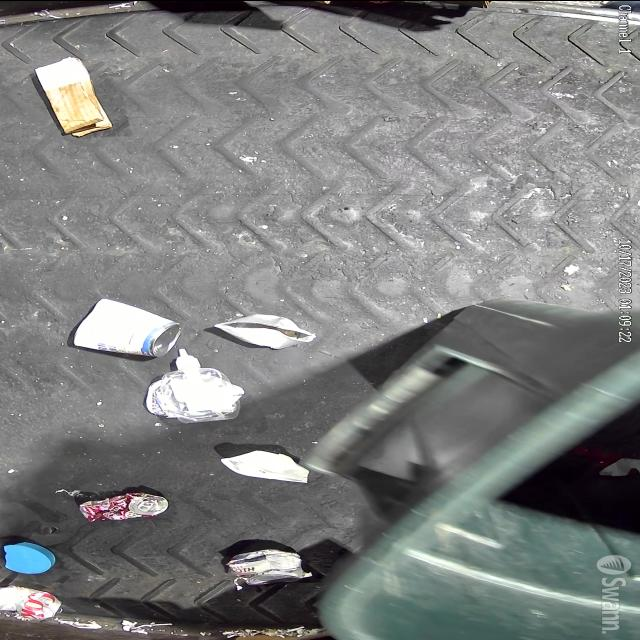can: (72, 296, 184, 358), (214, 312, 317, 348), (78, 491, 169, 523), (228, 548, 306, 584), (0, 585, 66, 623)
